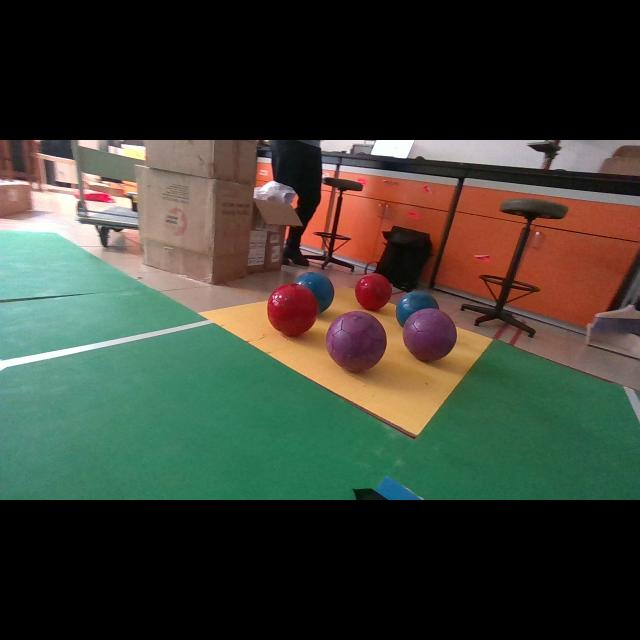B: (295, 272, 334, 312), (396, 291, 439, 326)
P: (326, 311, 386, 372), (402, 309, 458, 361)
R: (268, 284, 319, 336), (355, 274, 392, 311)
